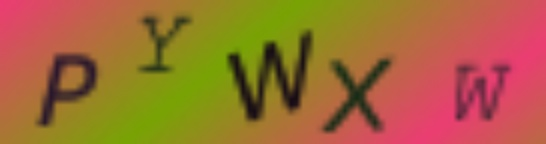P: (28, 46, 103, 131)
W: (222, 27, 321, 124), (442, 60, 518, 125)
X: (319, 53, 399, 135)
Y: (133, 11, 196, 76)
